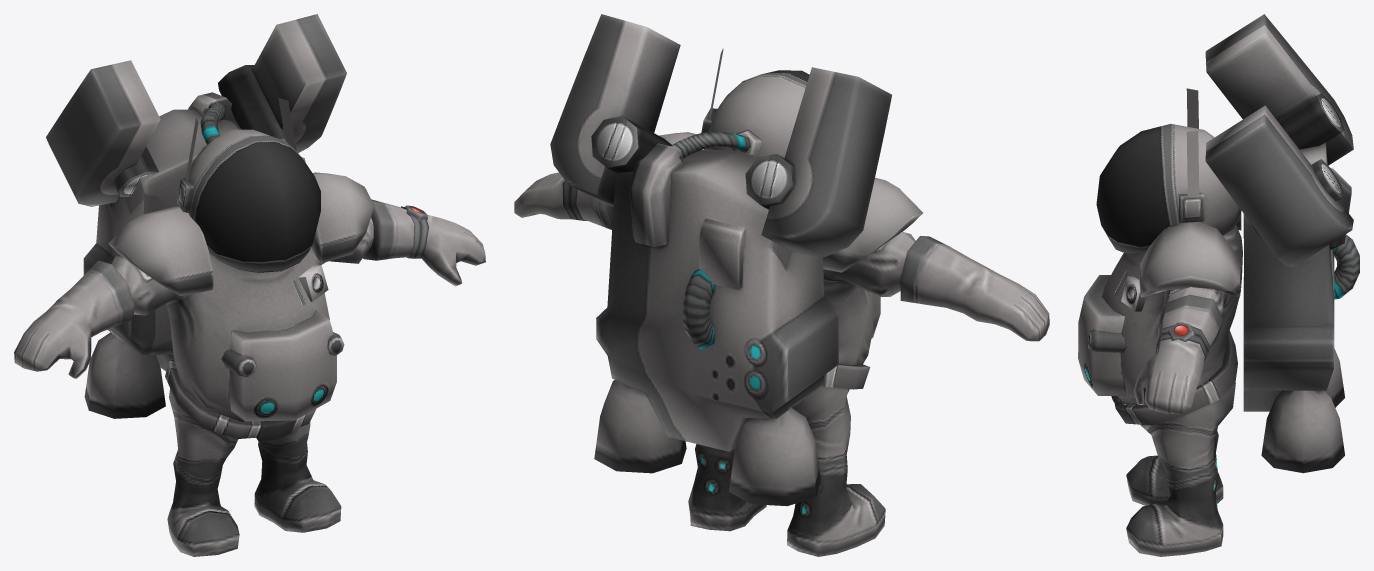
The picture shows the model from 3 angles, left to right: view 1: azimuth 30°, elevation 25°; view 2: azimuth 150°, elevation 25°; view 3: azimuth 270°, elevation 25°; orthographic projection. The views are drawn at different scales.
Visible parts, largest first — view 1: Hof_Body; view 2: Hof_Body; view 3: Hof_Body.
Boxes of the visible parts, x1=… form: Hof_Body: x1=14, y1=14, x2=485, y2=556; Hof_Body: x1=514, y1=14, x2=1049, y2=556; Hof_Body: x1=1078, y1=14, x2=1359, y2=556.
Bounding box in the file's own units: 1.56 × 1.47 × 0.83.
Materials: 1 (1 with a texture image).
